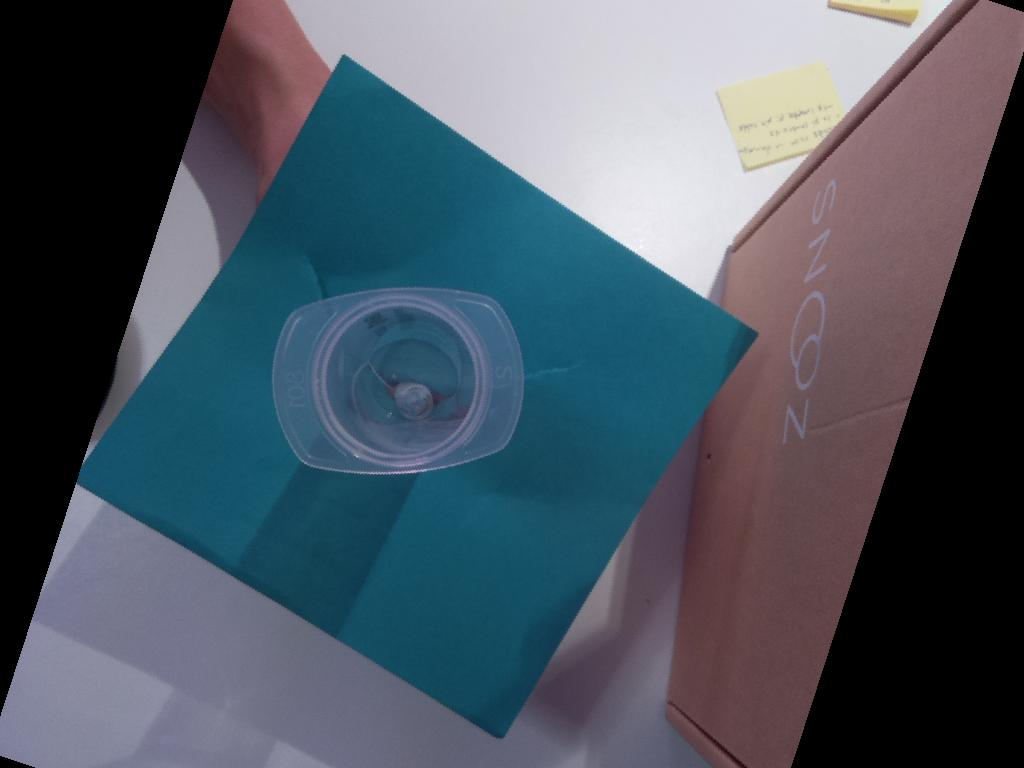clean: (270, 285, 525, 477)
